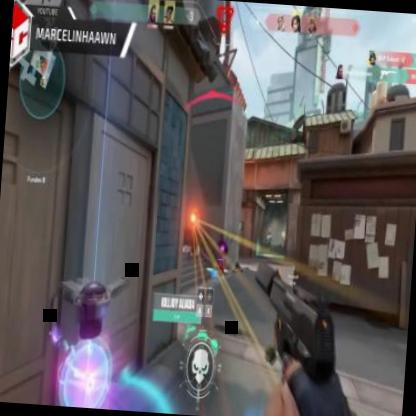enemy: (188, 210, 200, 261)
enemy_head: (192, 210, 198, 220)
